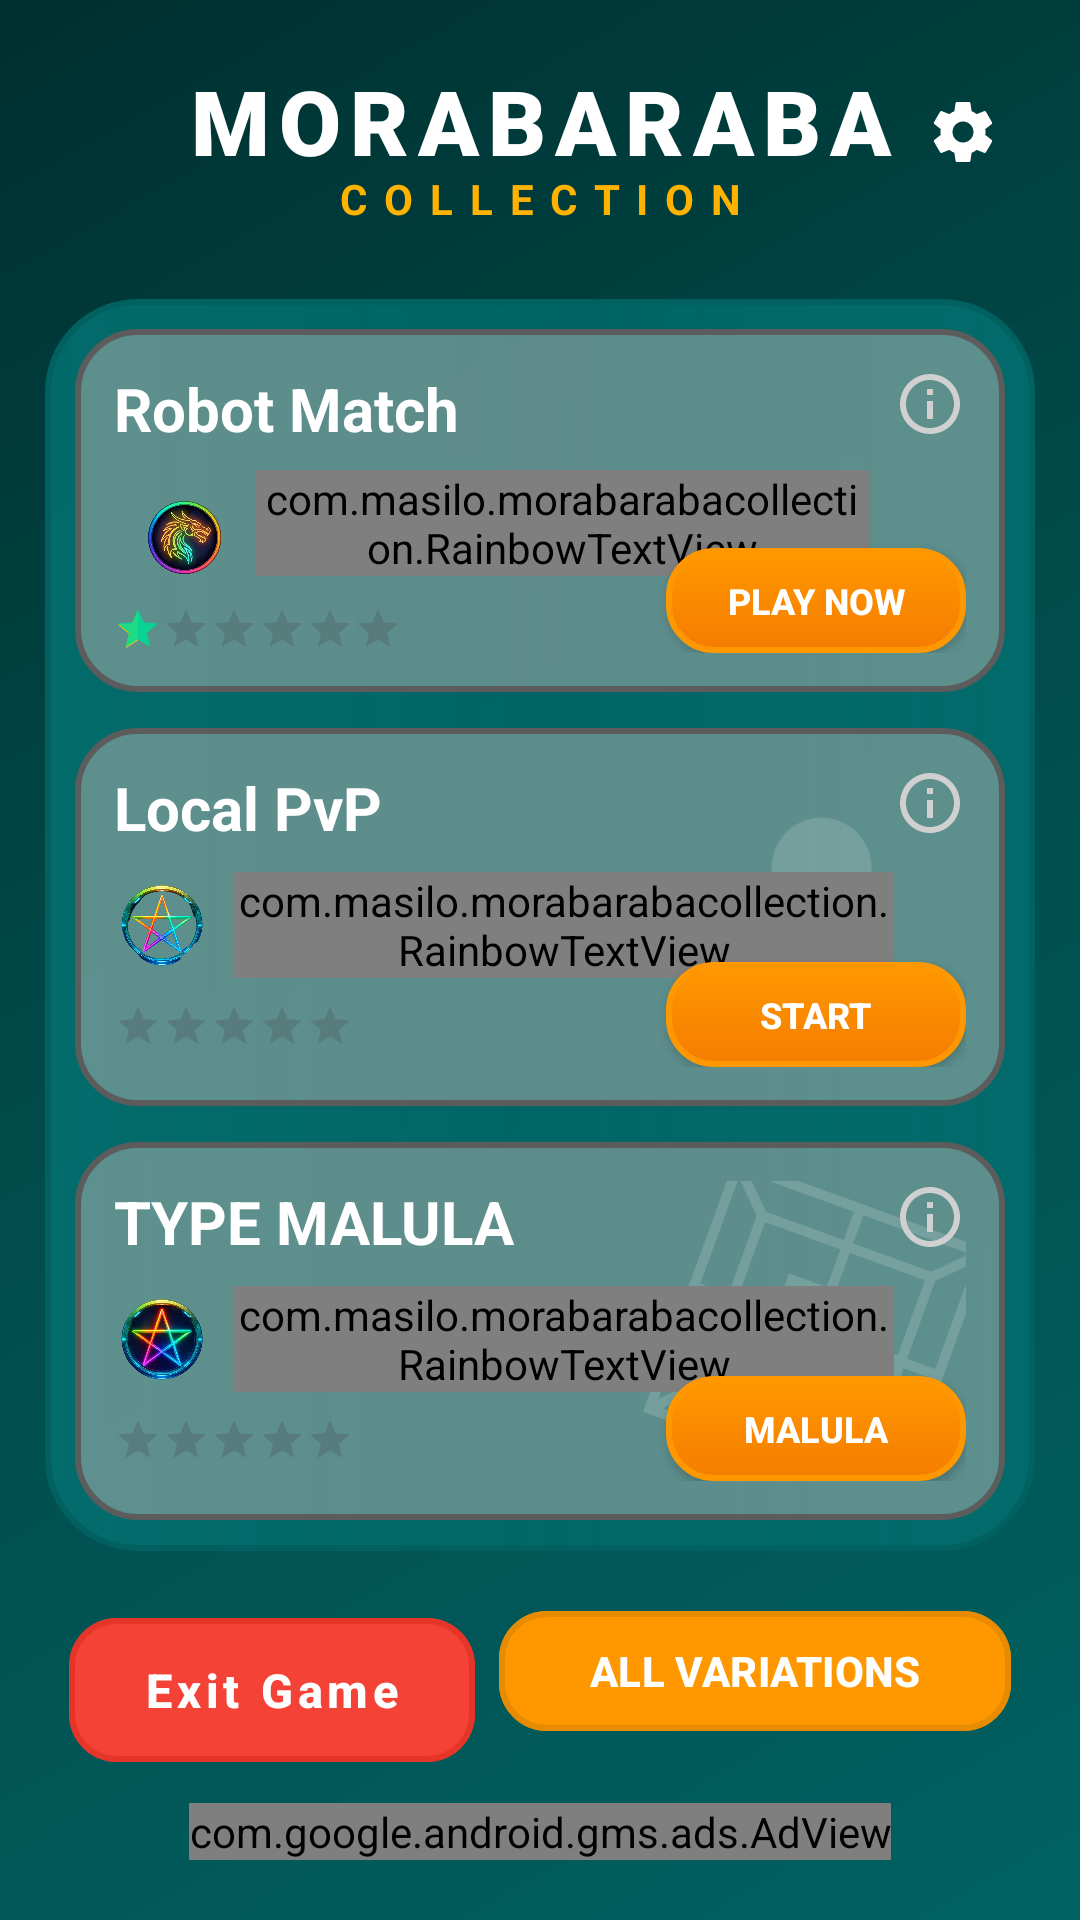

Named icons in this screenshot (1080px×1920px) and their centers, (x,y):
info: (930,404), (930,803), (930,1217)
Settings: (962,132)
